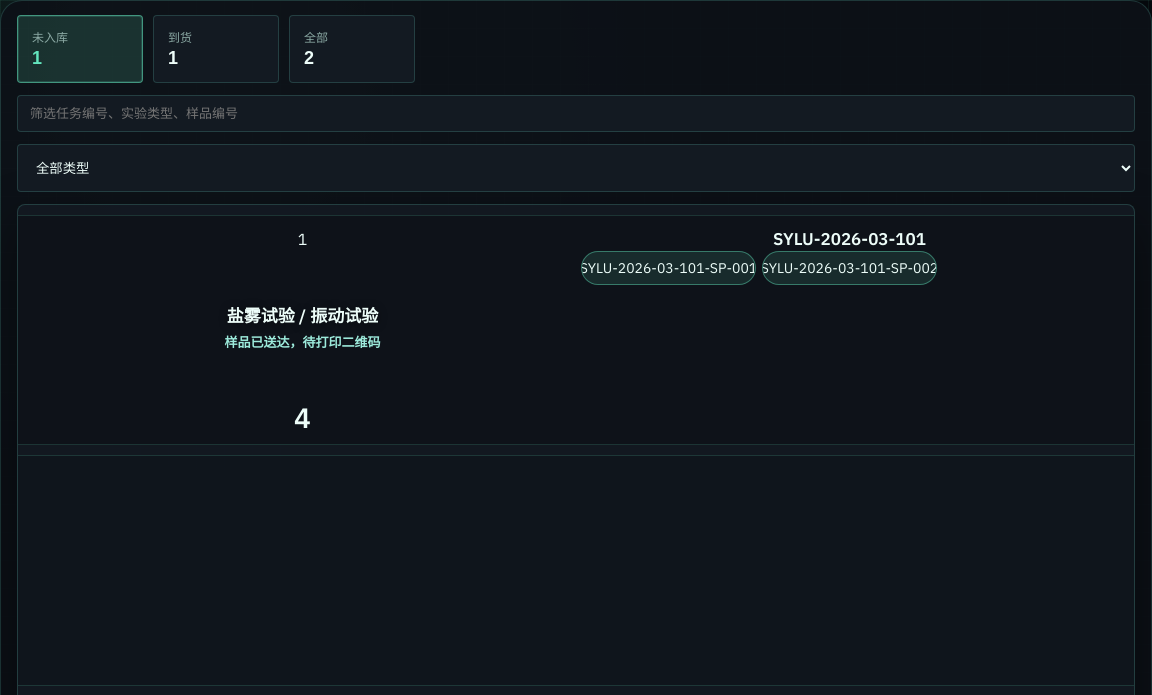
Scenario: TransferWorkbench runtime › pre-allocation mode uses clickable filter cards and hides confirm storage
Expected: the text "确认入库" is not shown
Click the button with test id "transfer-task-row-101": coordinates (576, 330) [18,215,1134,445]
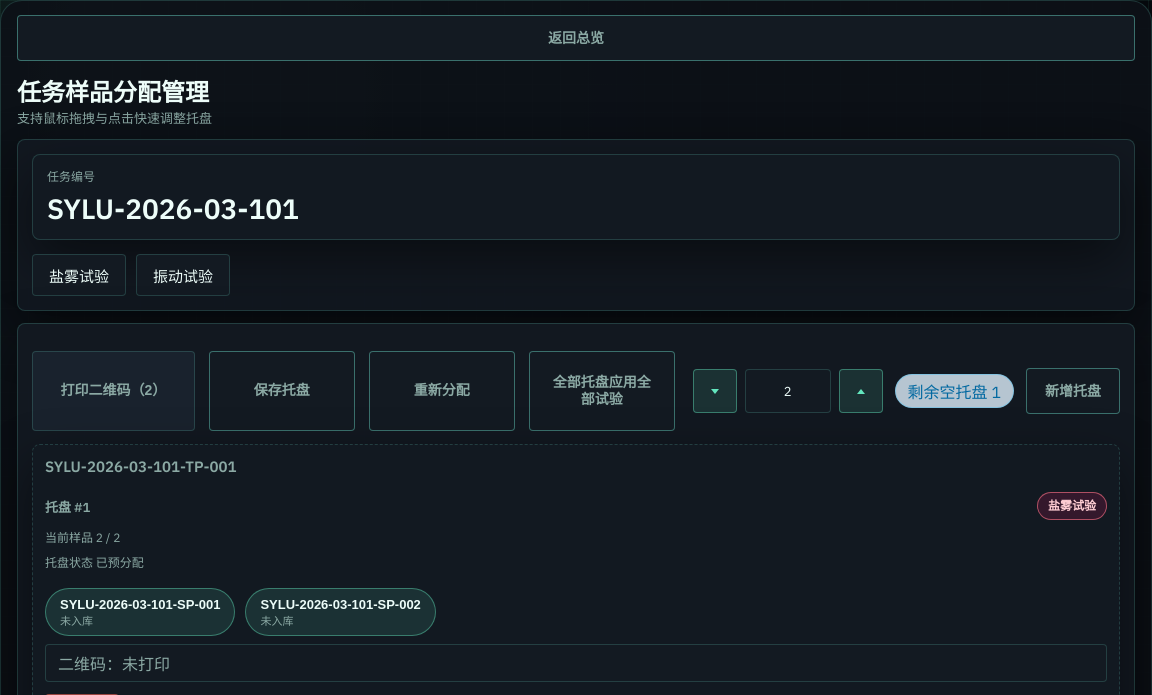
Expected: the text "支持鼠标拖拽与点击快速调整托盘" is shown, [17,110,212,127]
Expected: the text "重新分配" is shown, [369,351,515,431]
Expected: the button with test id "transfer-save-trays" is shown, [209,351,355,431]
Click the button with class "secondary" showing "返回总览": coordinates (576, 38) [17,15,1135,61]
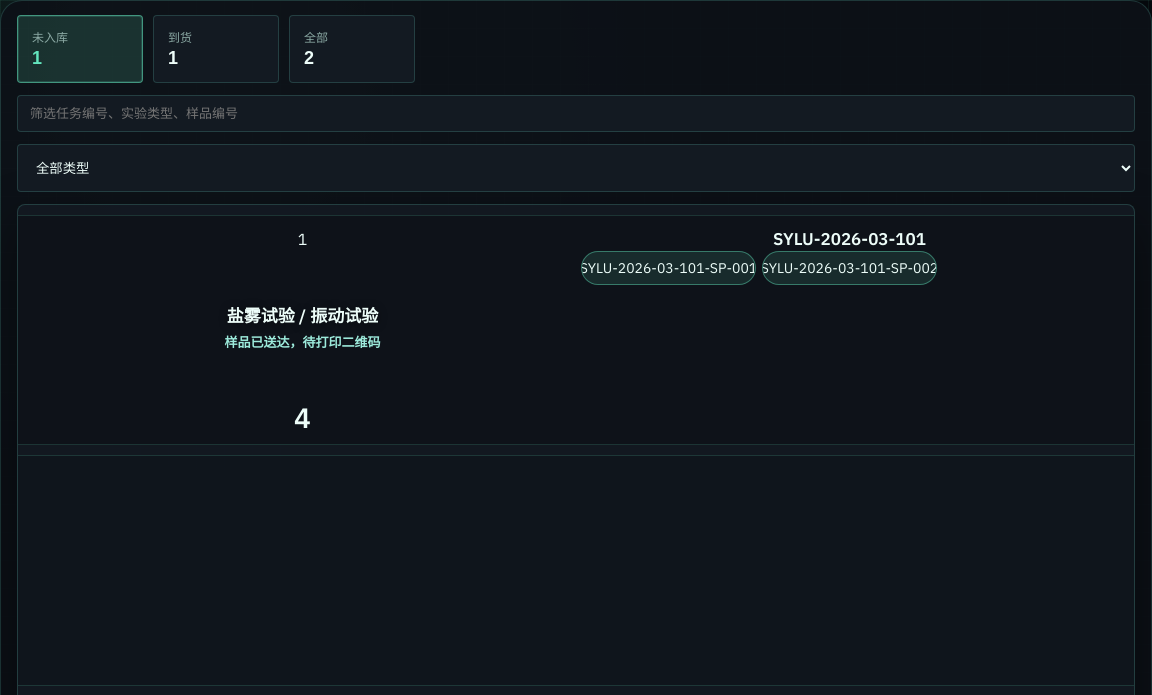
Click the button with test id "transfer-filter-stored": coordinates (216, 49) [153,15,279,83]
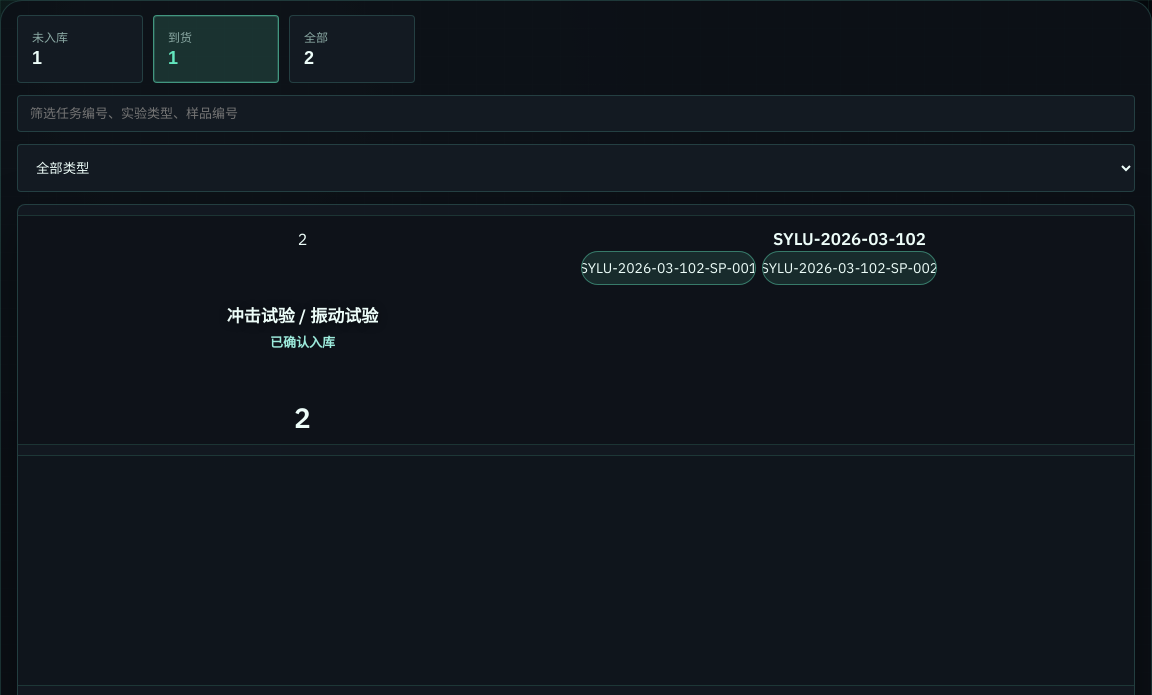
Click the button with test id "transfer-task-row-102": coordinates (576, 330) [18,215,1134,445]
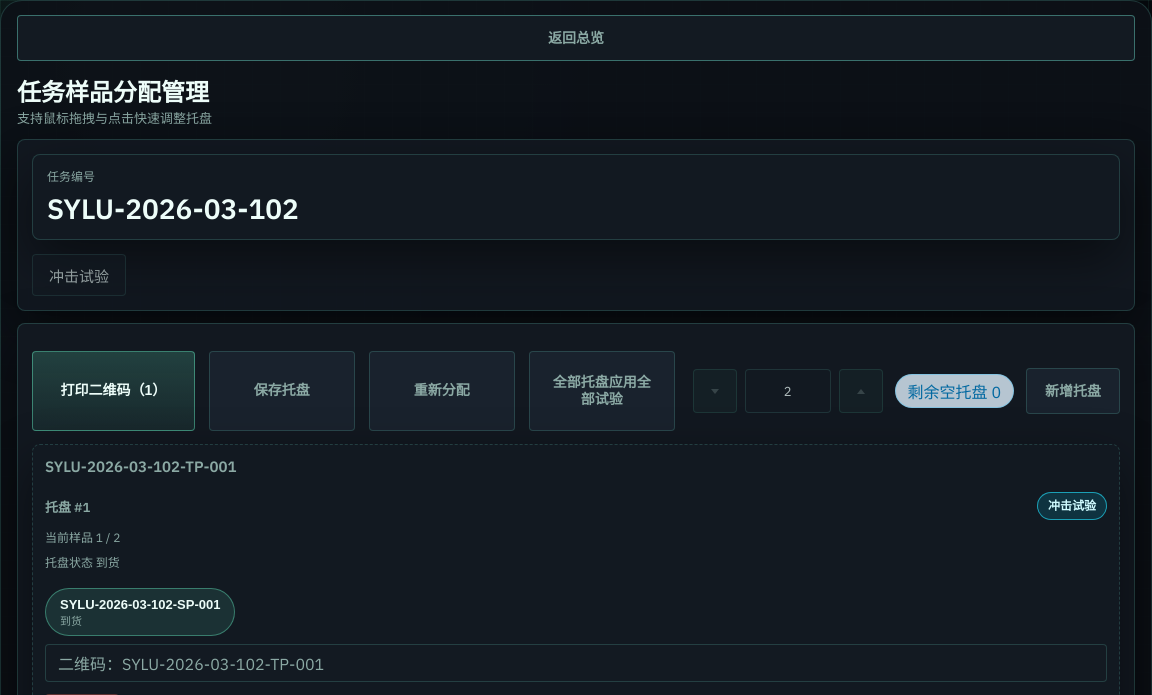
Expected: the text "SYLU-2026-03-102" is shown, [47,190,299,227]
Expected: the button with test id "transfer-print-barcodes" is enabled, [32,351,195,431]
Expected: the button with test id "transfer-save-trays" is disabled, [209,351,355,431]
